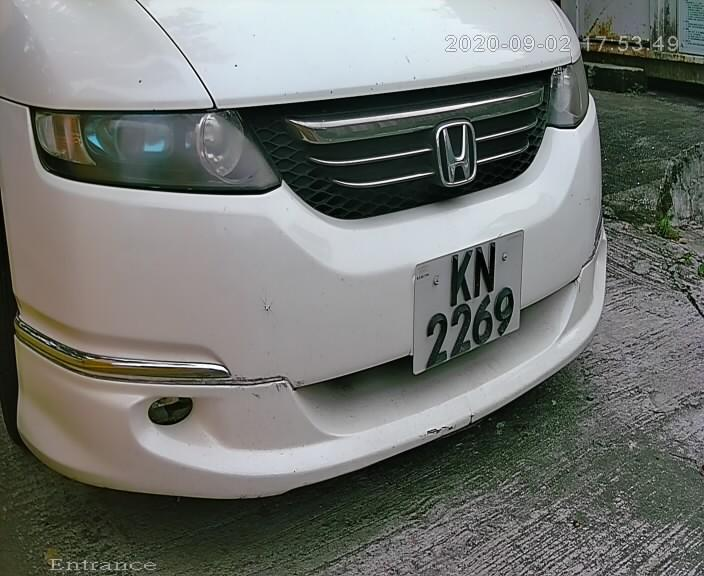License Plate: (406, 219, 522, 384)
